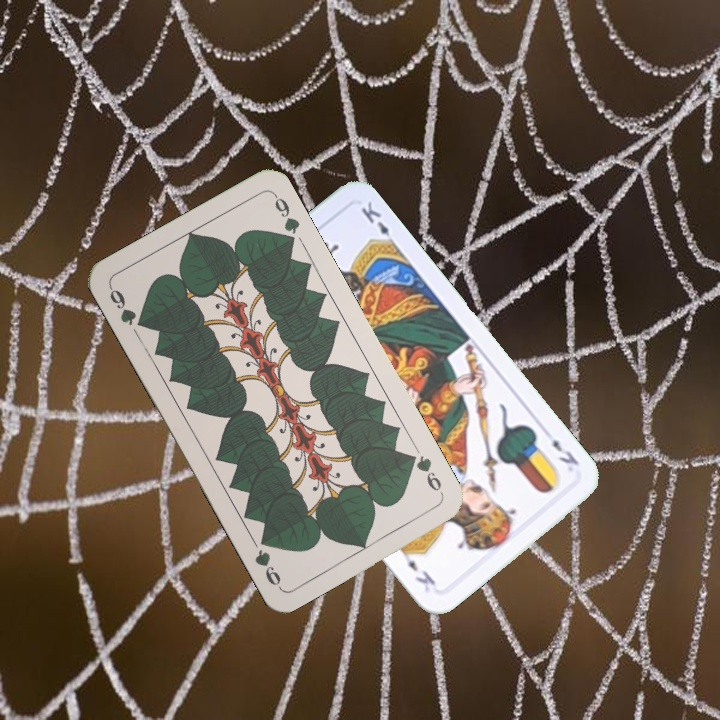EK: (548, 434, 582, 468)
G9: (105, 283, 149, 331), (403, 449, 446, 498)
